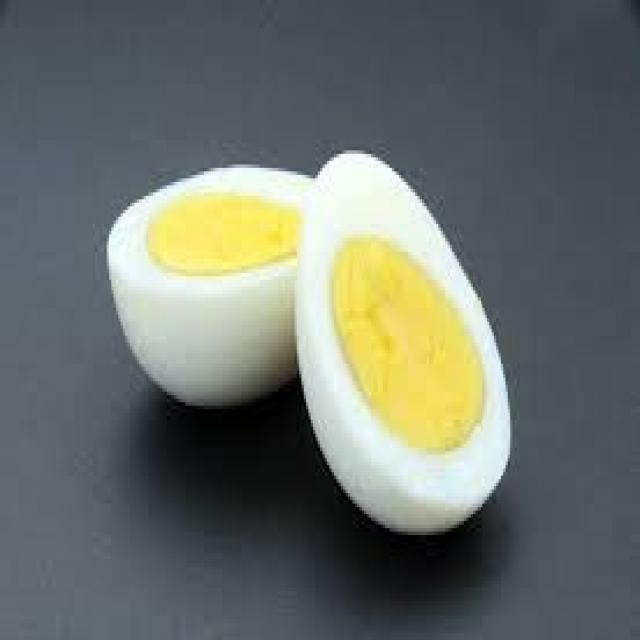Organik: (105, 148, 517, 542)
